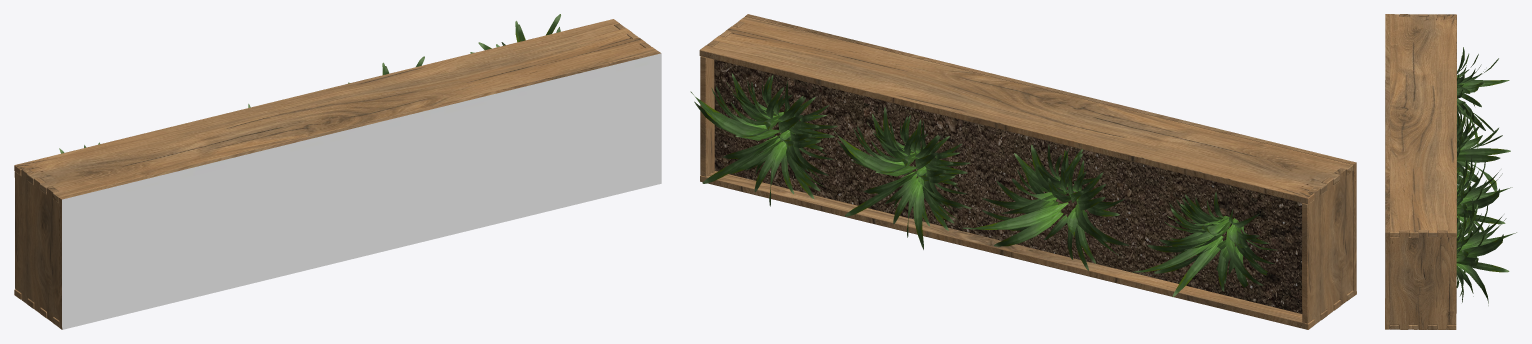
File: grassflowerbed.glb
3 renders of one model, left to right at view 1: azimuth 30°, elevation 25°; view 2: azimuth 150°, elevation 25°; view 3: azimuth 270°, elevation 25°, orthographic. The views are drawn at different scales.
Parts seen in each view (by area): view 1: Wood; view 2: Wood, Soil, grass4, grass2, grass3, grass1; view 3: Wood, grass4, grass3, grass2, grass1.
Part boxes in pixels (left/top/right/bottom): Wood: left=14, top=19, right=661, bottom=329; Wood: left=699, top=14, right=1356, bottom=329; Soil: left=714, top=59, right=1302, bottom=313; grass4: left=690, top=73, right=837, bottom=206; grass2: left=962, top=144, right=1129, bottom=270; grass3: left=834, top=107, right=971, bottom=249; grass1: left=1132, top=192, right=1277, bottom=296; Wood: left=1385, top=14, right=1456, bottom=329; grass4: left=1456, top=199, right=1516, bottom=305; grass3: left=1457, top=156, right=1512, bottom=233; grass2: left=1457, top=109, right=1510, bottom=191; grass1: left=1457, top=47, right=1509, bottom=148.
Bounding box in the file's own units: 10.02 × 2.09 × 2.57.
3 materials, 3 textured.
